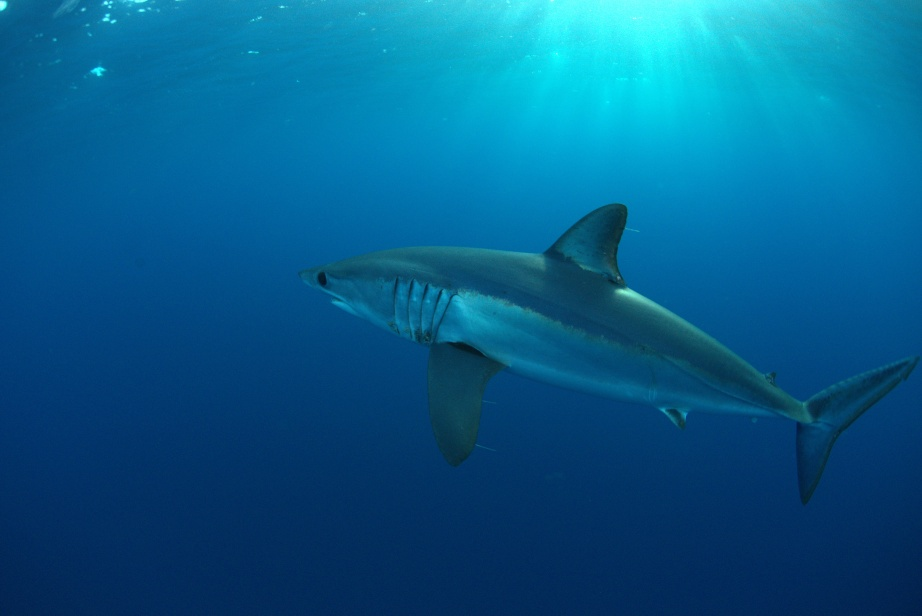Mako: (281, 197, 922, 522)
